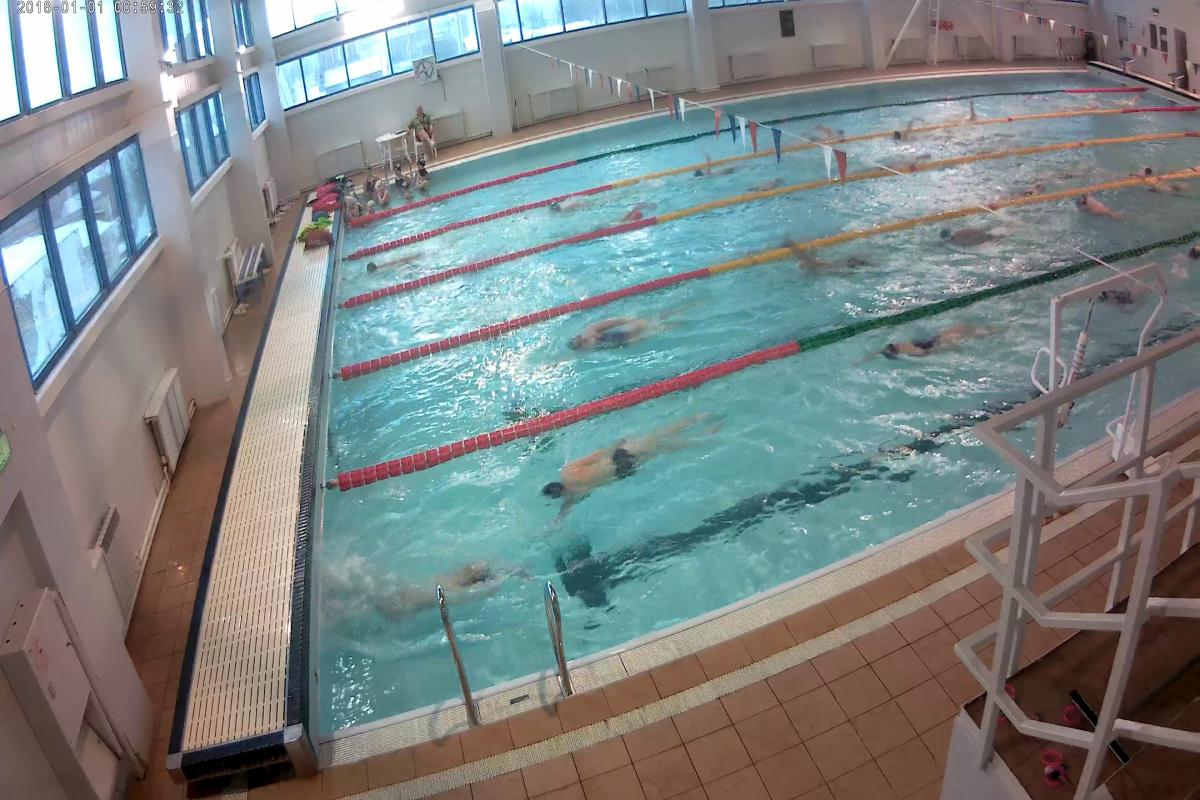swimmer: (548, 411, 707, 495), (380, 562, 497, 613), (891, 326, 1039, 360), (563, 328, 680, 354), (1064, 191, 1129, 225), (786, 249, 876, 271), (922, 226, 1013, 247), (1087, 288, 1151, 310), (1129, 176, 1177, 201)
